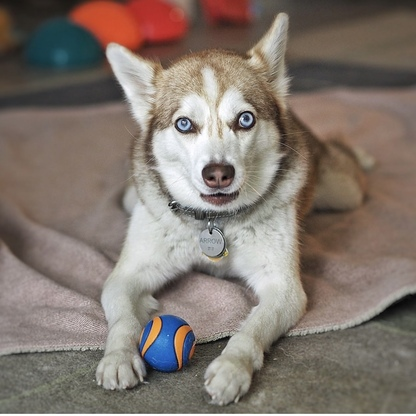husky: (86, 7, 380, 407)
